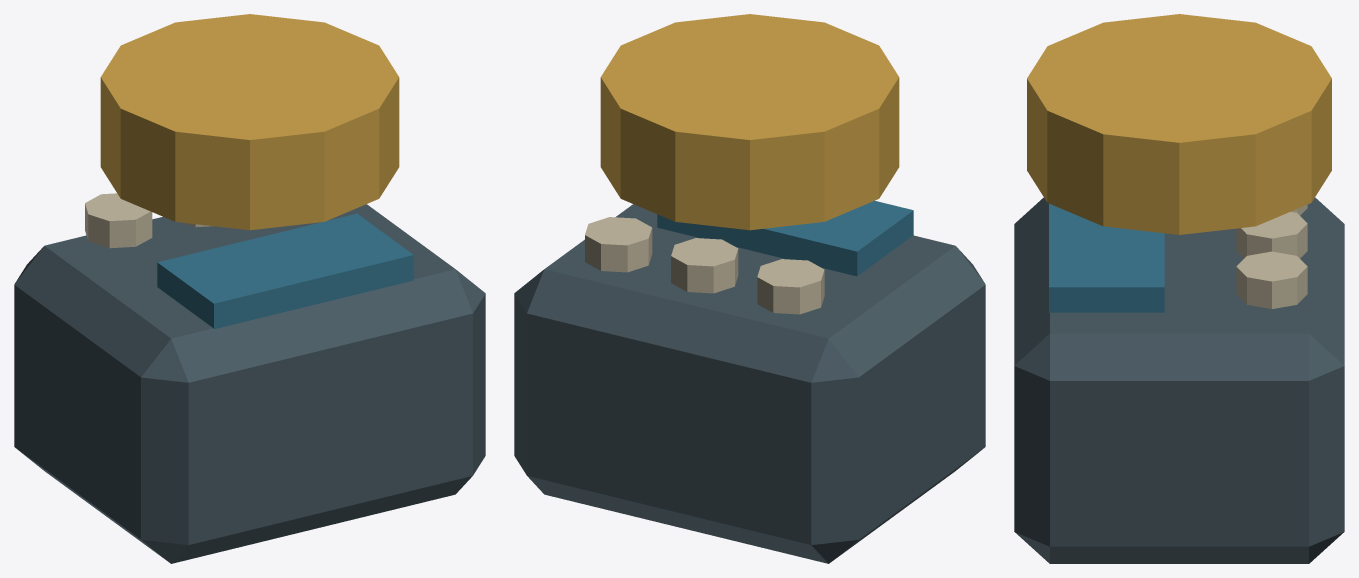
The model's file is set_net_float.glb.
3 renders of one model, left to right at view 1: azimuth 30°, elevation 25°; view 2: azimuth 150°, elevation 25°; view 3: azimuth 270°, elevation 25°, orthographic. The views are drawn at different scales.
Visible parts, largest first — view 1: set_net_float; view 2: set_net_float; view 3: set_net_float.
Part boxes in pixels (box(x1,y1,x2,y2)): set_net_float: box(14, 14, 485, 563); set_net_float: box(514, 14, 985, 563); set_net_float: box(1014, 14, 1344, 563).
Size of the model in its own units: 0.16 by 0.18 by 0.13.
